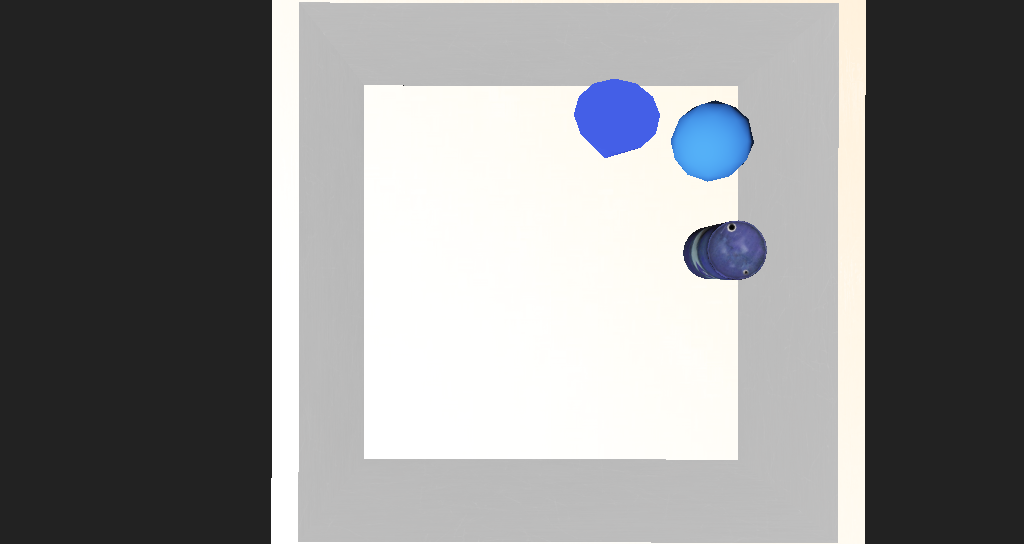cone: (616, 241, 677, 274)
cylinder: (519, 160, 586, 222)
sphere: (603, 174, 664, 217)
